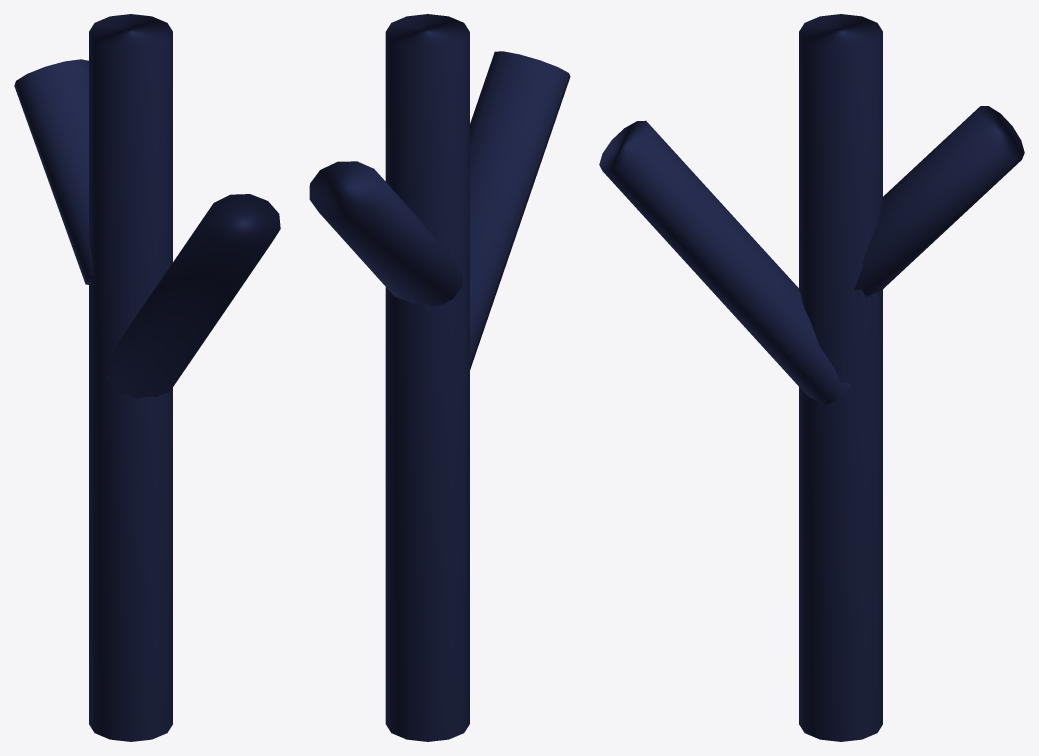
File: arbre-mort.gltf
The picture shows the model from 3 angles, left to right: view 1: azimuth 30°, elevation 25°; view 2: azimuth 150°, elevation 25°; view 3: azimuth 270°, elevation 25°; orthographic projection.
Parts seen in each view (by area): view 1: arbre-fancy.tronc.001, arbre-fancy.branche.001, arbre-fancy.branche.002; view 2: arbre-fancy.tronc.001, arbre-fancy.branche.001, arbre-fancy.branche.002; view 3: arbre-fancy.tronc.001, arbre-fancy.branche.001, arbre-fancy.branche.002.
Boxes of the visible parts, x1,y1,x2,y2 form: arbre-fancy.tronc.001: (89,14,172,741); arbre-fancy.branche.001: (105,194,280,398); arbre-fancy.branche.002: (14,59,93,284); arbre-fancy.tronc.001: (385,14,469,741); arbre-fancy.branche.001: (468,51,570,369); arbre-fancy.branche.002: (309,161,462,306); arbre-fancy.tronc.001: (799,14,882,741); arbre-fancy.branche.001: (599,120,851,405); arbre-fancy.branche.002: (854,106,1024,296).
Size of the model in its own units: 0.2046 by 1.71 by 0.9509.
